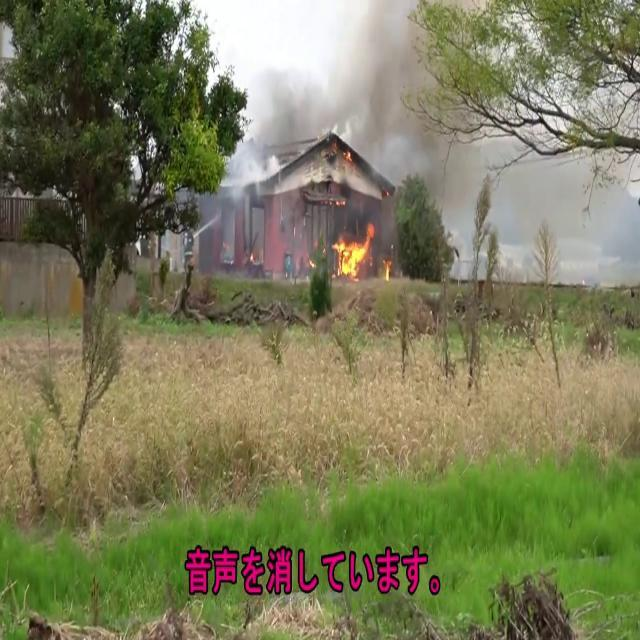Fire: (327, 222, 377, 281)
Smoke: (227, 0, 439, 181)
